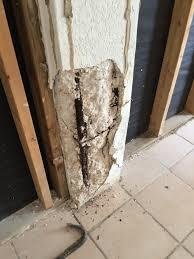exposed_rebar: (74, 77, 88, 185)
spalling: (51, 59, 125, 199)
